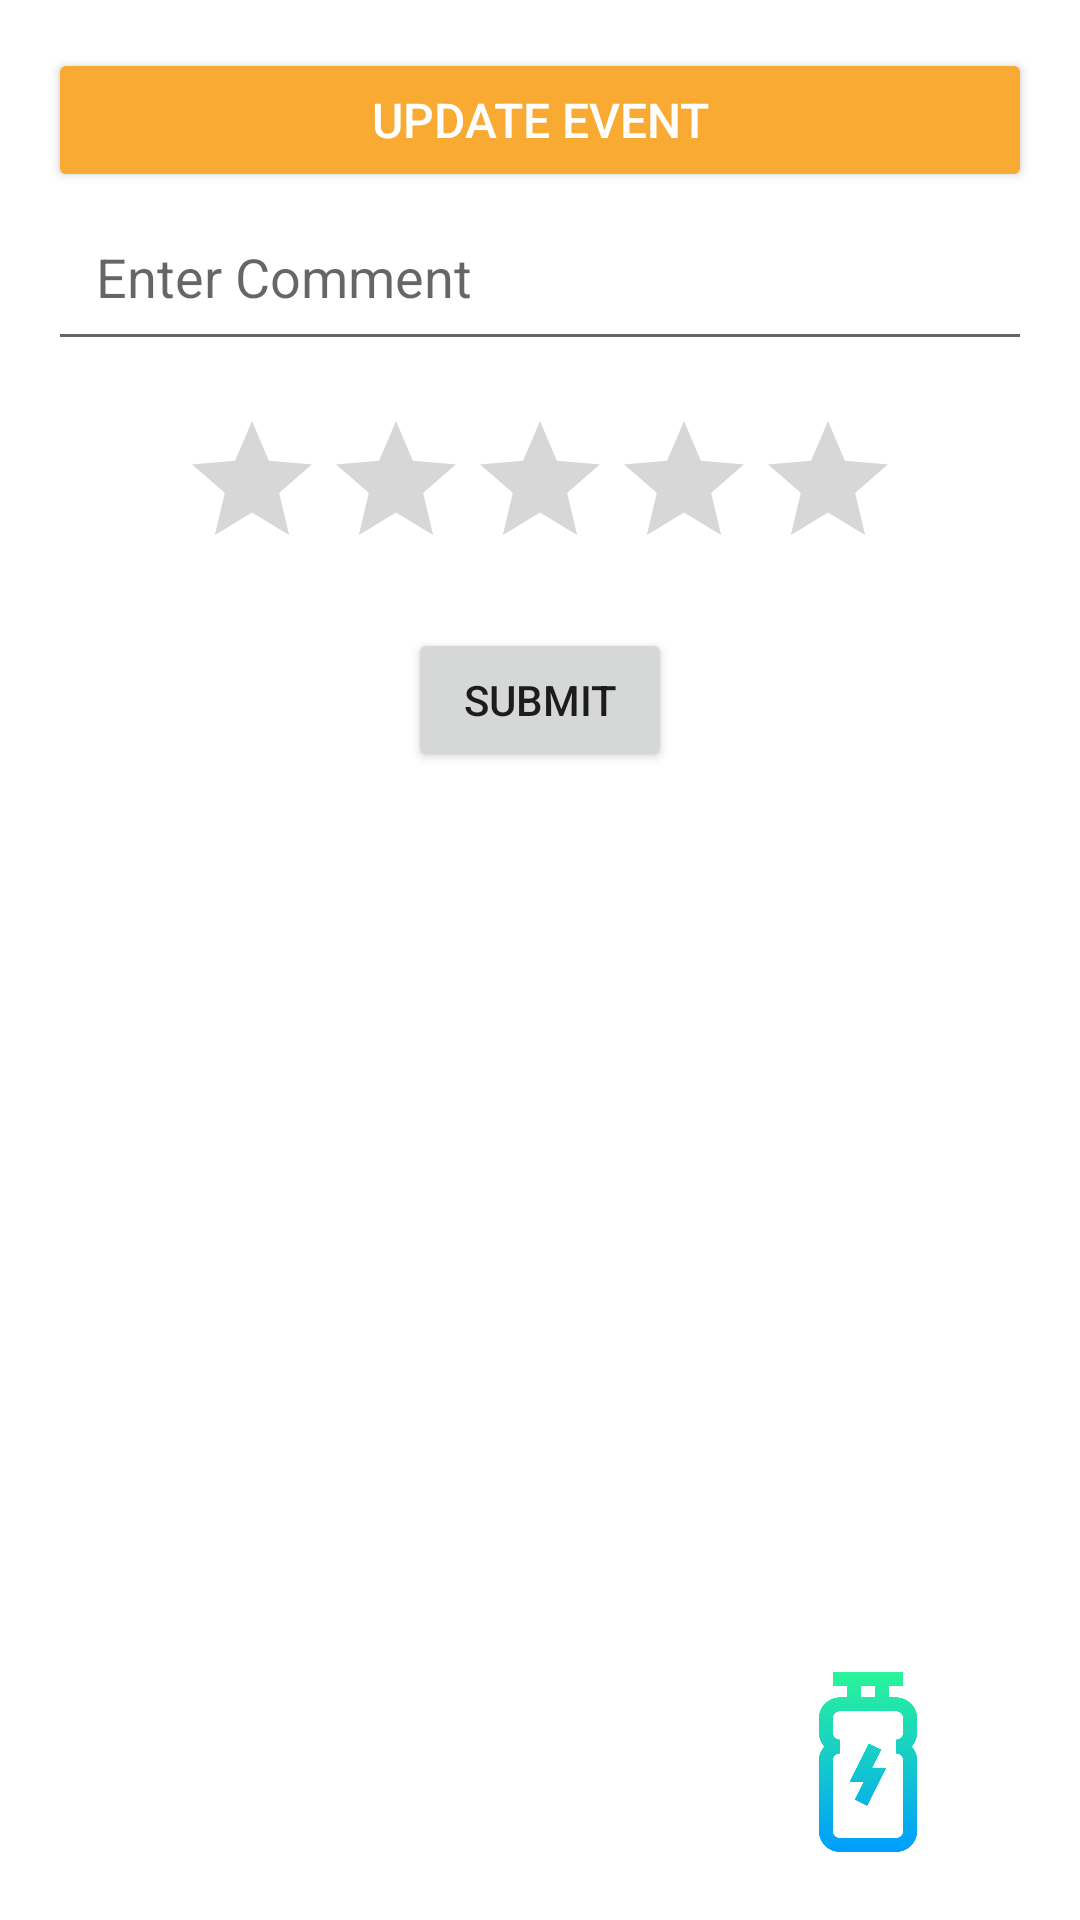

Locate icon controls on the screen. Image size 1080*1920, boxes as [left=x1, top=y1, right=x2, bottom=y2].
energy drink: [left=819, top=1672, right=917, bottom=1852]
